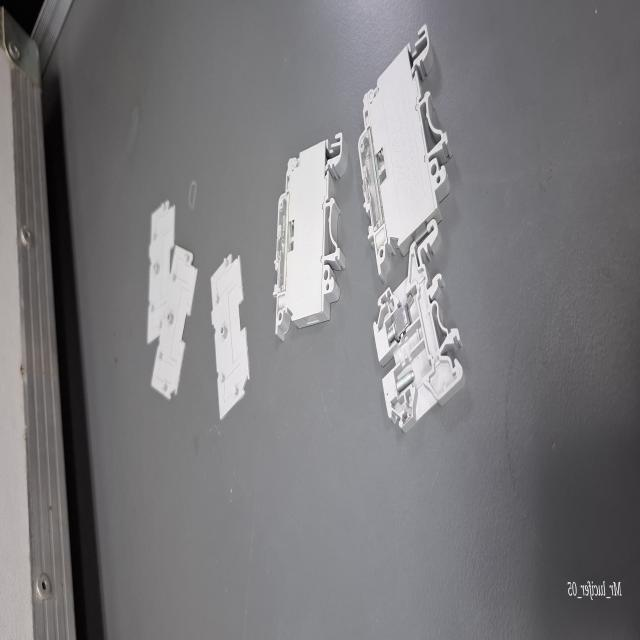Reject: (363, 206, 472, 472)
